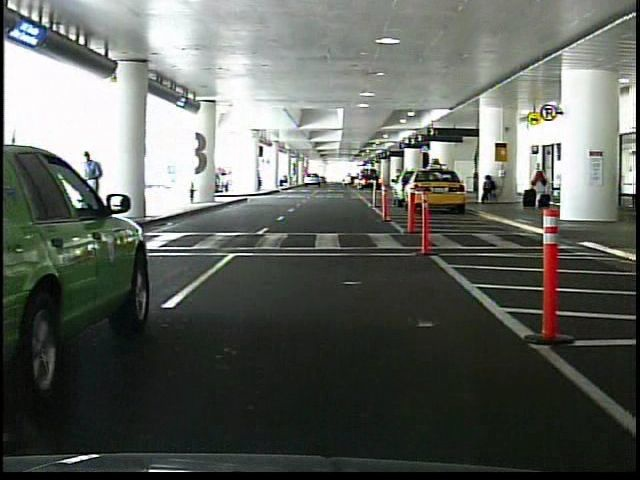person: (83, 150, 109, 221), (532, 161, 551, 209), (480, 172, 500, 204)
